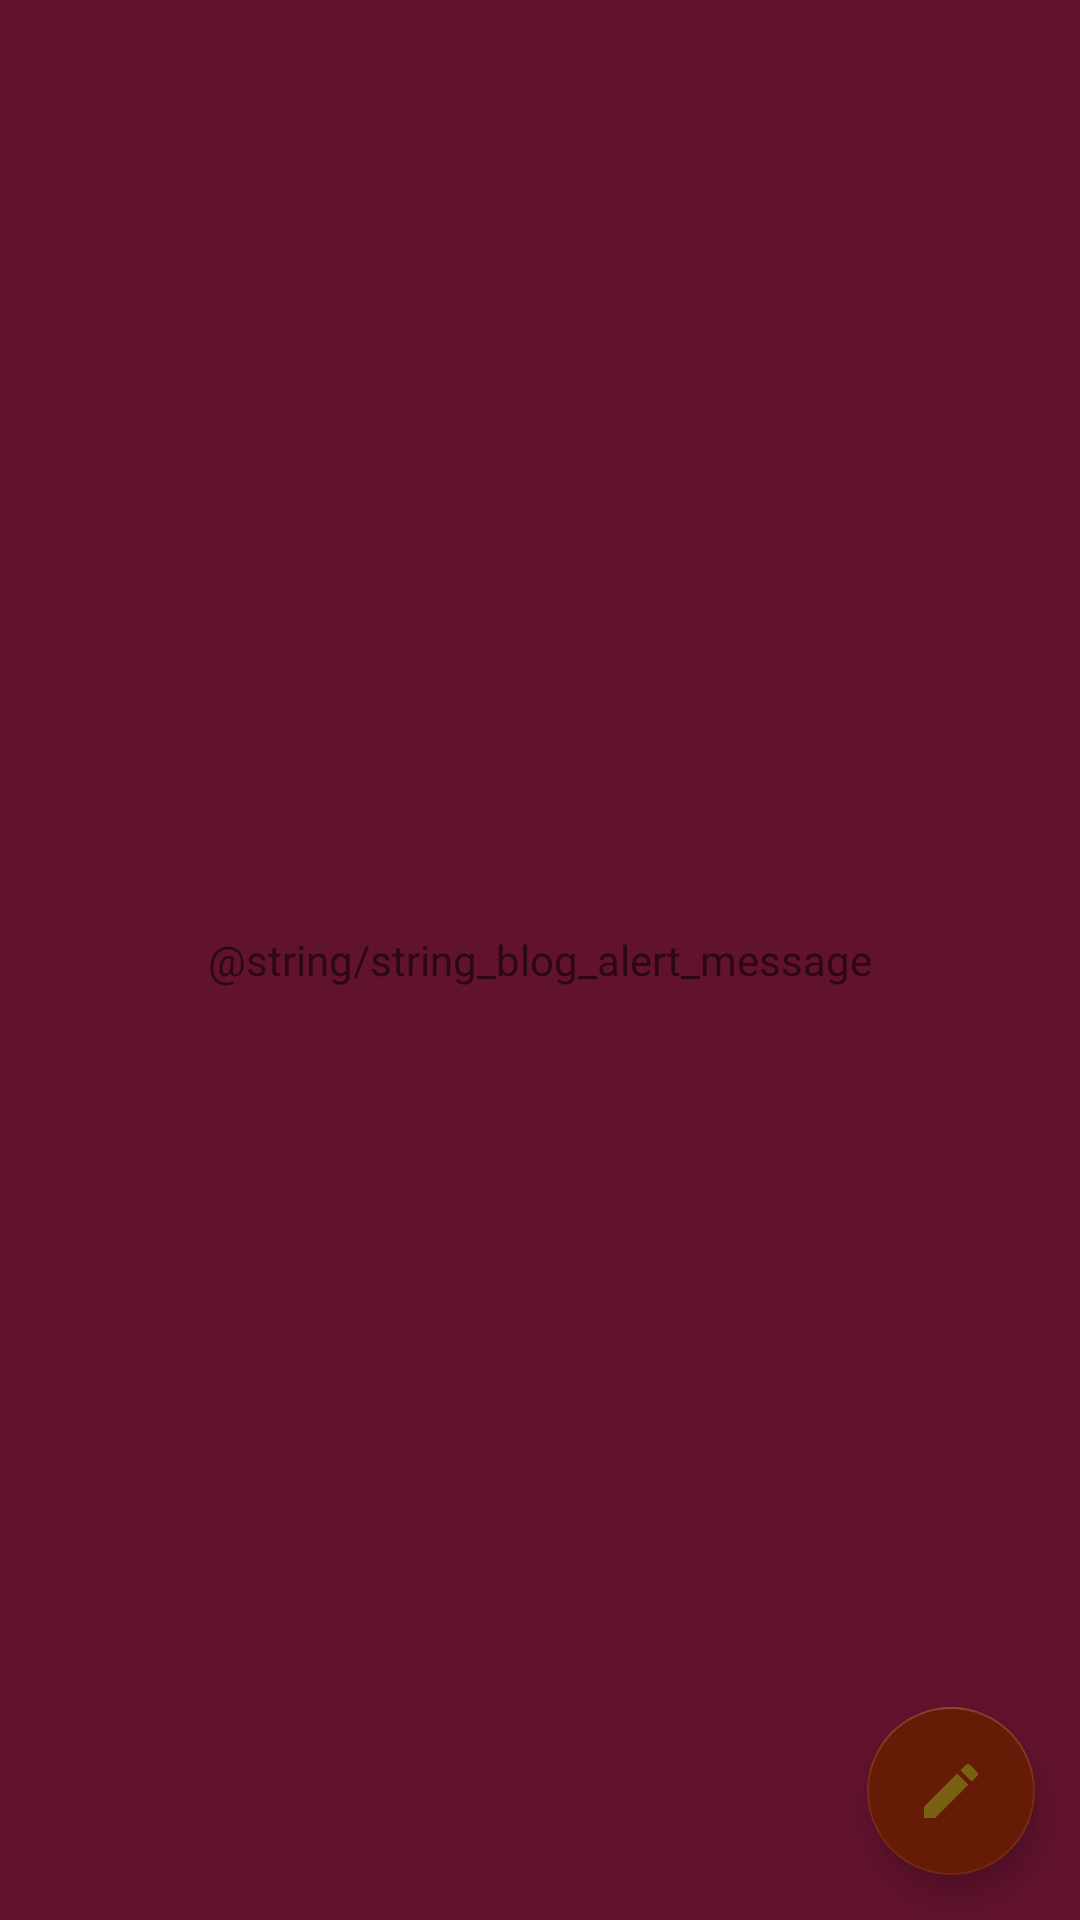

Where to tap for icons on this 1080 × 1920 app screen, as [x,y]:
pen: [951,1791]
